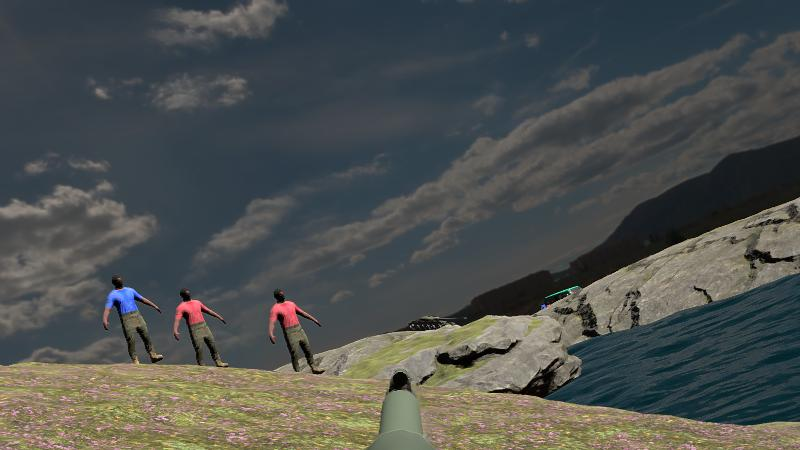Human: (103, 273, 162, 369), (270, 288, 325, 381), (174, 288, 228, 376)
